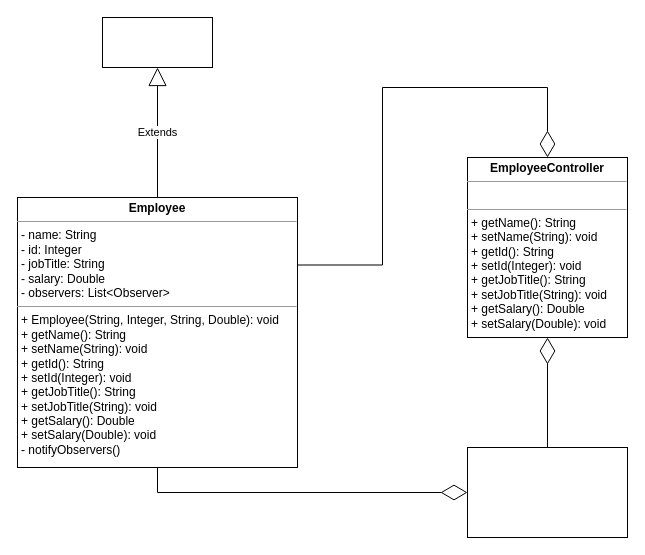
Some shapes in this 645 by 555 pixel diagram are drawn without their labels. Here are the shapes that lost their labels. From the top down, the centre of each, then its label:
[157,42]: «interface» Java Observable
[547,492]: EmployeeView + displayEmployeeInfo(): void + update(): void
